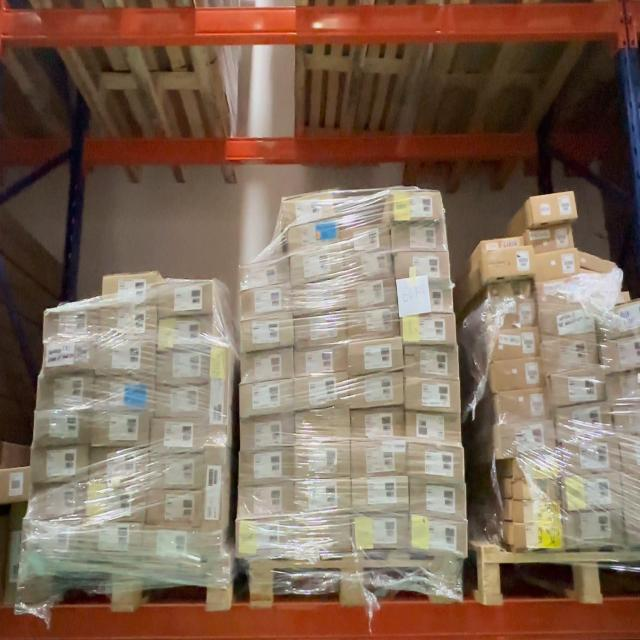box: (204, 450, 228, 550), (84, 523, 145, 561), (290, 521, 352, 556), (411, 483, 468, 520), (143, 527, 198, 565), (564, 475, 622, 511), (23, 522, 81, 558), (551, 371, 609, 407), (352, 475, 408, 512), (96, 378, 154, 413), (96, 343, 154, 378), (157, 350, 215, 385), (408, 444, 464, 480), (31, 447, 87, 483), (88, 485, 147, 519), (209, 346, 229, 446), (562, 441, 619, 476), (240, 382, 295, 418), (92, 448, 150, 482), (294, 479, 350, 514), (238, 483, 294, 518), (354, 516, 408, 552), (412, 522, 466, 558), (147, 489, 201, 525), (352, 440, 407, 475), (240, 450, 295, 485), (101, 305, 156, 340), (152, 417, 207, 452), (93, 414, 151, 447), (237, 523, 290, 559), (150, 453, 203, 489), (39, 375, 93, 410), (160, 280, 214, 315), (35, 411, 89, 446), (154, 386, 213, 418), (240, 318, 295, 352), (349, 338, 404, 372), (349, 374, 404, 408), (556, 406, 611, 440), (542, 302, 597, 336), (546, 337, 601, 371), (103, 272, 159, 305), (498, 422, 554, 455), (295, 442, 349, 476), (46, 304, 100, 338), (160, 315, 214, 349), (566, 512, 620, 546), (406, 413, 461, 446), (404, 380, 459, 413), (400, 280, 455, 313), (404, 347, 458, 380), (241, 418, 294, 451), (402, 314, 456, 346), (239, 286, 292, 318), (33, 485, 83, 518), (351, 410, 404, 441), (296, 410, 349, 441), (292, 251, 343, 283), (492, 359, 543, 391), (294, 316, 346, 347), (294, 377, 346, 408), (241, 352, 294, 382), (497, 391, 548, 422), (482, 245, 531, 277), (44, 342, 96, 372), (491, 328, 541, 359), (344, 279, 397, 308), (392, 189, 440, 221), (286, 196, 340, 224), (294, 283, 344, 313), (348, 309, 399, 338), (290, 222, 341, 251), (539, 278, 591, 306), (531, 190, 575, 223), (597, 302, 640, 335), (394, 222, 444, 250), (294, 348, 344, 376), (240, 260, 290, 288), (397, 252, 450, 278), (345, 223, 390, 253), (344, 252, 394, 279), (601, 337, 640, 371), (490, 301, 537, 329), (534, 249, 576, 279), (514, 452, 561, 478), (529, 224, 575, 250), (513, 527, 564, 550), (515, 502, 563, 525), (513, 480, 562, 502), (578, 250, 621, 274), (1, 469, 32, 502), (487, 278, 531, 301), (609, 372, 639, 405), (624, 503, 640, 546), (622, 440, 640, 476), (622, 470, 638, 510), (615, 410, 640, 435)
